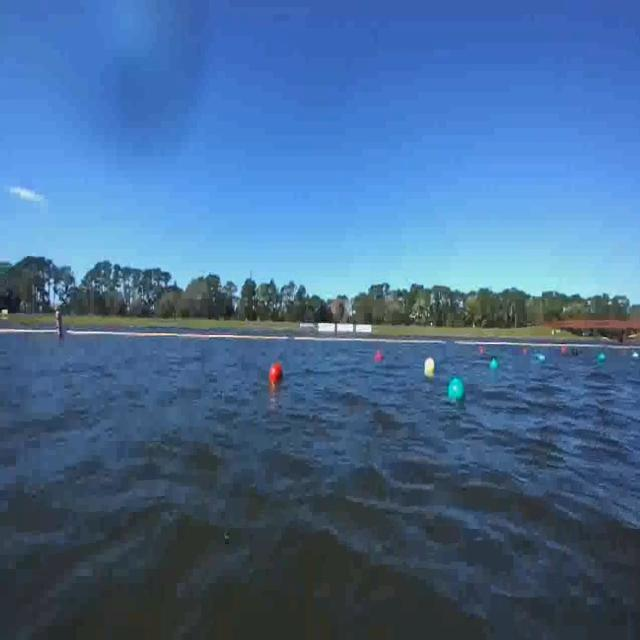green-buoy: (446, 375, 464, 401), (491, 358, 499, 371), (598, 352, 606, 364)
red-buoy: (271, 363, 284, 382), (376, 352, 384, 362)
yellow-buoy: (424, 357, 436, 375)
